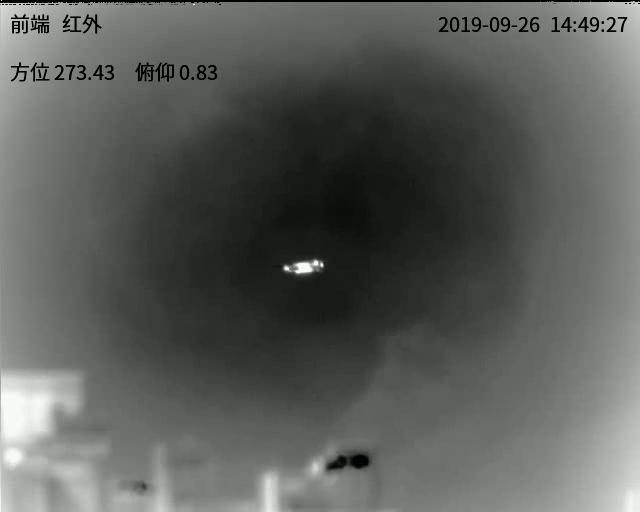DRONE: (280, 258, 325, 275)
